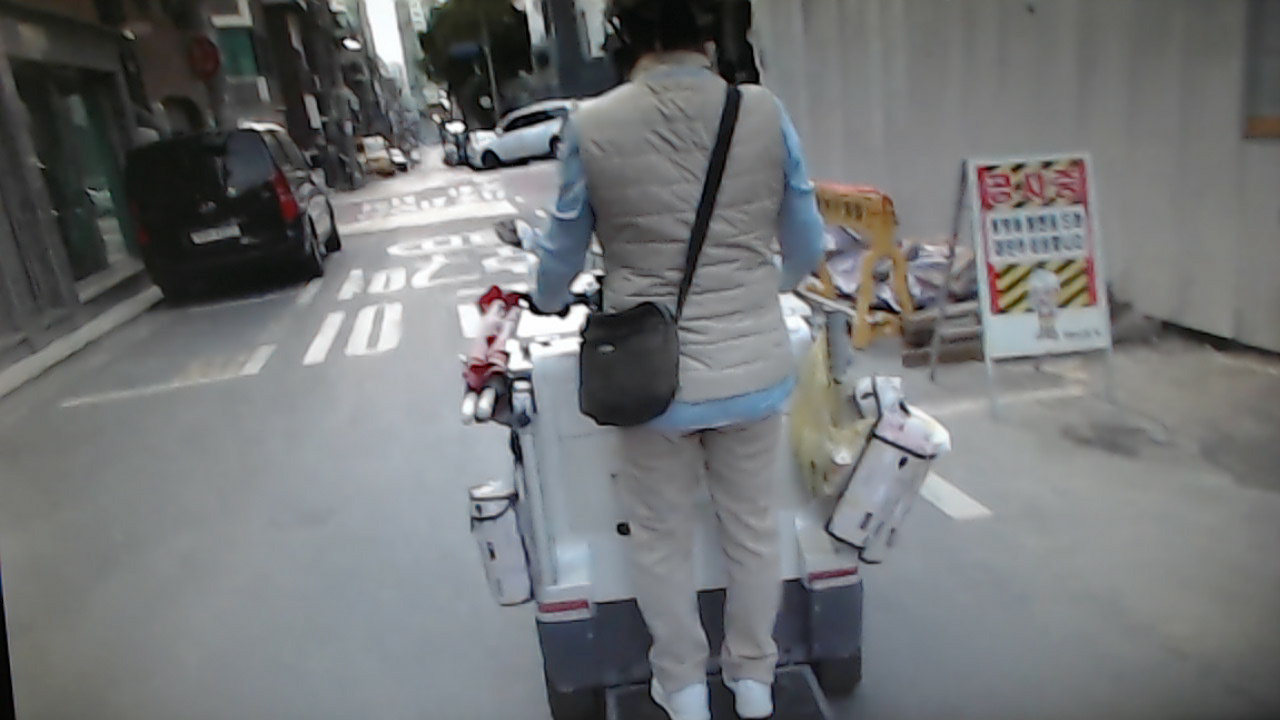Yakurut: (502, 7, 861, 720)
